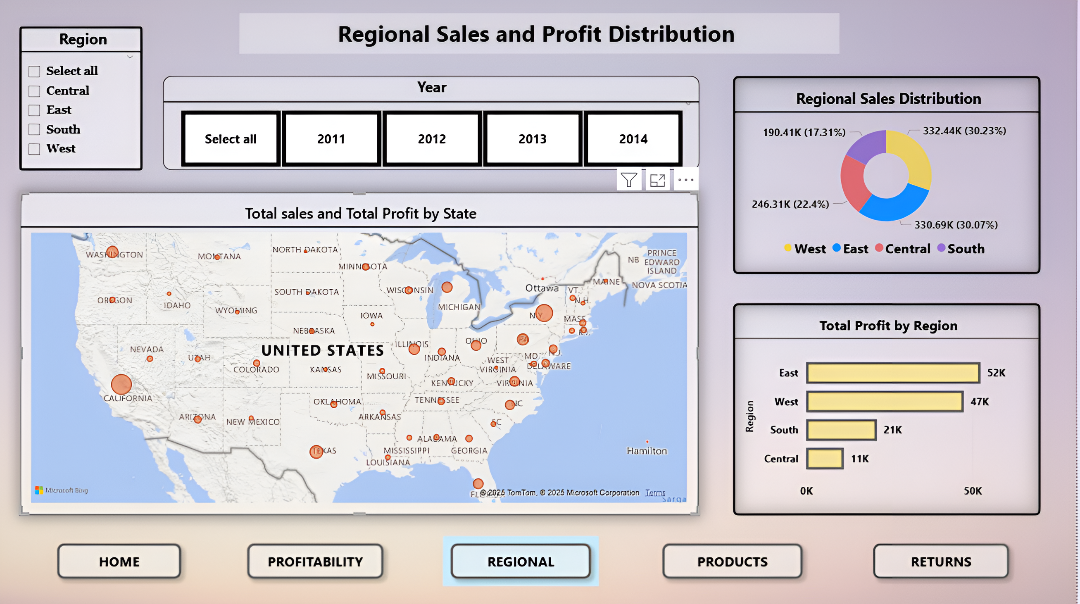

This screenshot's page, from the dashboard's own definition file:
{"tool":"powerbi","page":{"name":"Regional Performance","canvas":[1280,720],"ordinal":2},"visuals":[{"type":"donutChart","title":"Regional Sales Distribution","fields":{"Y":["Orders.Total sales"],"Category":["People.Region"]},"box":[874.1,90.6,363.6,234.6],"z":0},{"type":"slicer","title":"Region","fields":{"Values":["Orders.Region"]},"box":[28.8,31.6,145.5,170.2],"z":1000},{"type":"actionButton","box":[65.1,634.6,165.3,60.3],"z":2000},{"type":"actionButton","box":[289.5,634.6,179.8,60.3],"z":3000},{"type":"actionButton","box":[530.8,634.6,184.6,60.3],"z":4000},{"type":"actionButton","box":[781.8,634.6,184.6,60.3],"z":5000},{"type":"actionButton","box":[1030.3,634.6,179.8,60.3],"z":6000},{"type":"textbox","box":[289.8,15.9,710.5,47.7],"z":7000},{"type":"slicer","title":"Year","fields":{"Values":["Orders.Order Date.Variation.Date Hierarchy.Year"]},"box":[199,90.6,635.3,111.1],"z":8000},{"type":"clusteredBarChart","fields":{"Category":["Orders.Region"],"Y":["Orders.Total Profit"]},"box":[874.1,359.5,363.6,251.1],"z":9000},{"type":"map","fields":{"Size":["Orders.Total sales"],"Category":["Orders.State"]},"box":[28.8,227.8,805,382.8],"z":10000}]}

Visuals, with their boxes in screenshot pixels (x1, y1, x2, y2), scaled from the page's 1280x720 canvas onto the 1080x604 screenshot:
"Regional Sales Distribution" donutChart: Rect(738, 76, 1044, 273)
"Region" slicer: Rect(24, 27, 147, 169)
actionButton: Rect(55, 532, 194, 583)
actionButton: Rect(244, 532, 396, 583)
actionButton: Rect(448, 532, 604, 583)
actionButton: Rect(660, 532, 815, 583)
actionButton: Rect(869, 532, 1021, 583)
textbox: Rect(245, 13, 844, 53)
"Year" slicer: Rect(168, 76, 704, 169)
clusteredBarChart - Orders.Region x Orders.Total Profit: Rect(738, 302, 1044, 512)
map - Orders.Total sales x Orders.State: Rect(24, 191, 704, 512)
